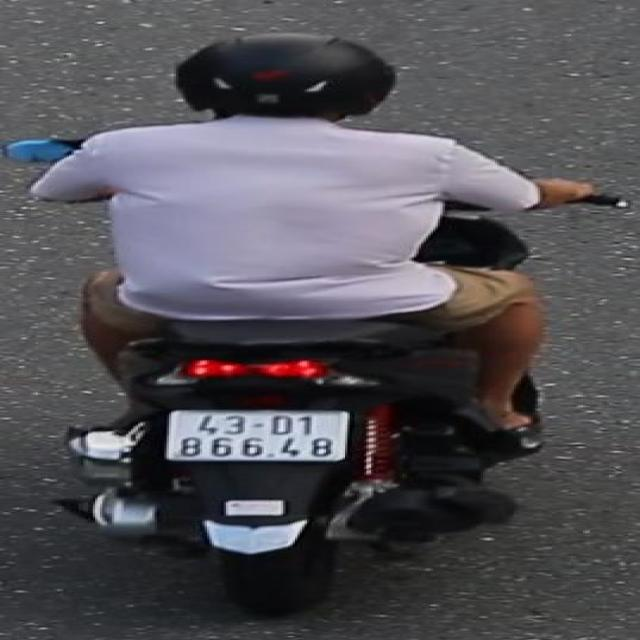LP: (162, 402, 359, 467)
helmet: (167, 30, 402, 137)
